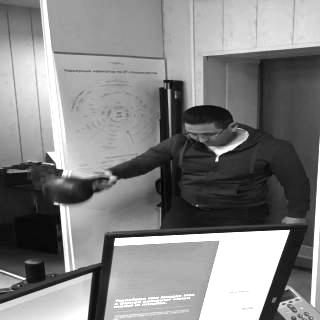kettlebell: (39, 171, 116, 210)
